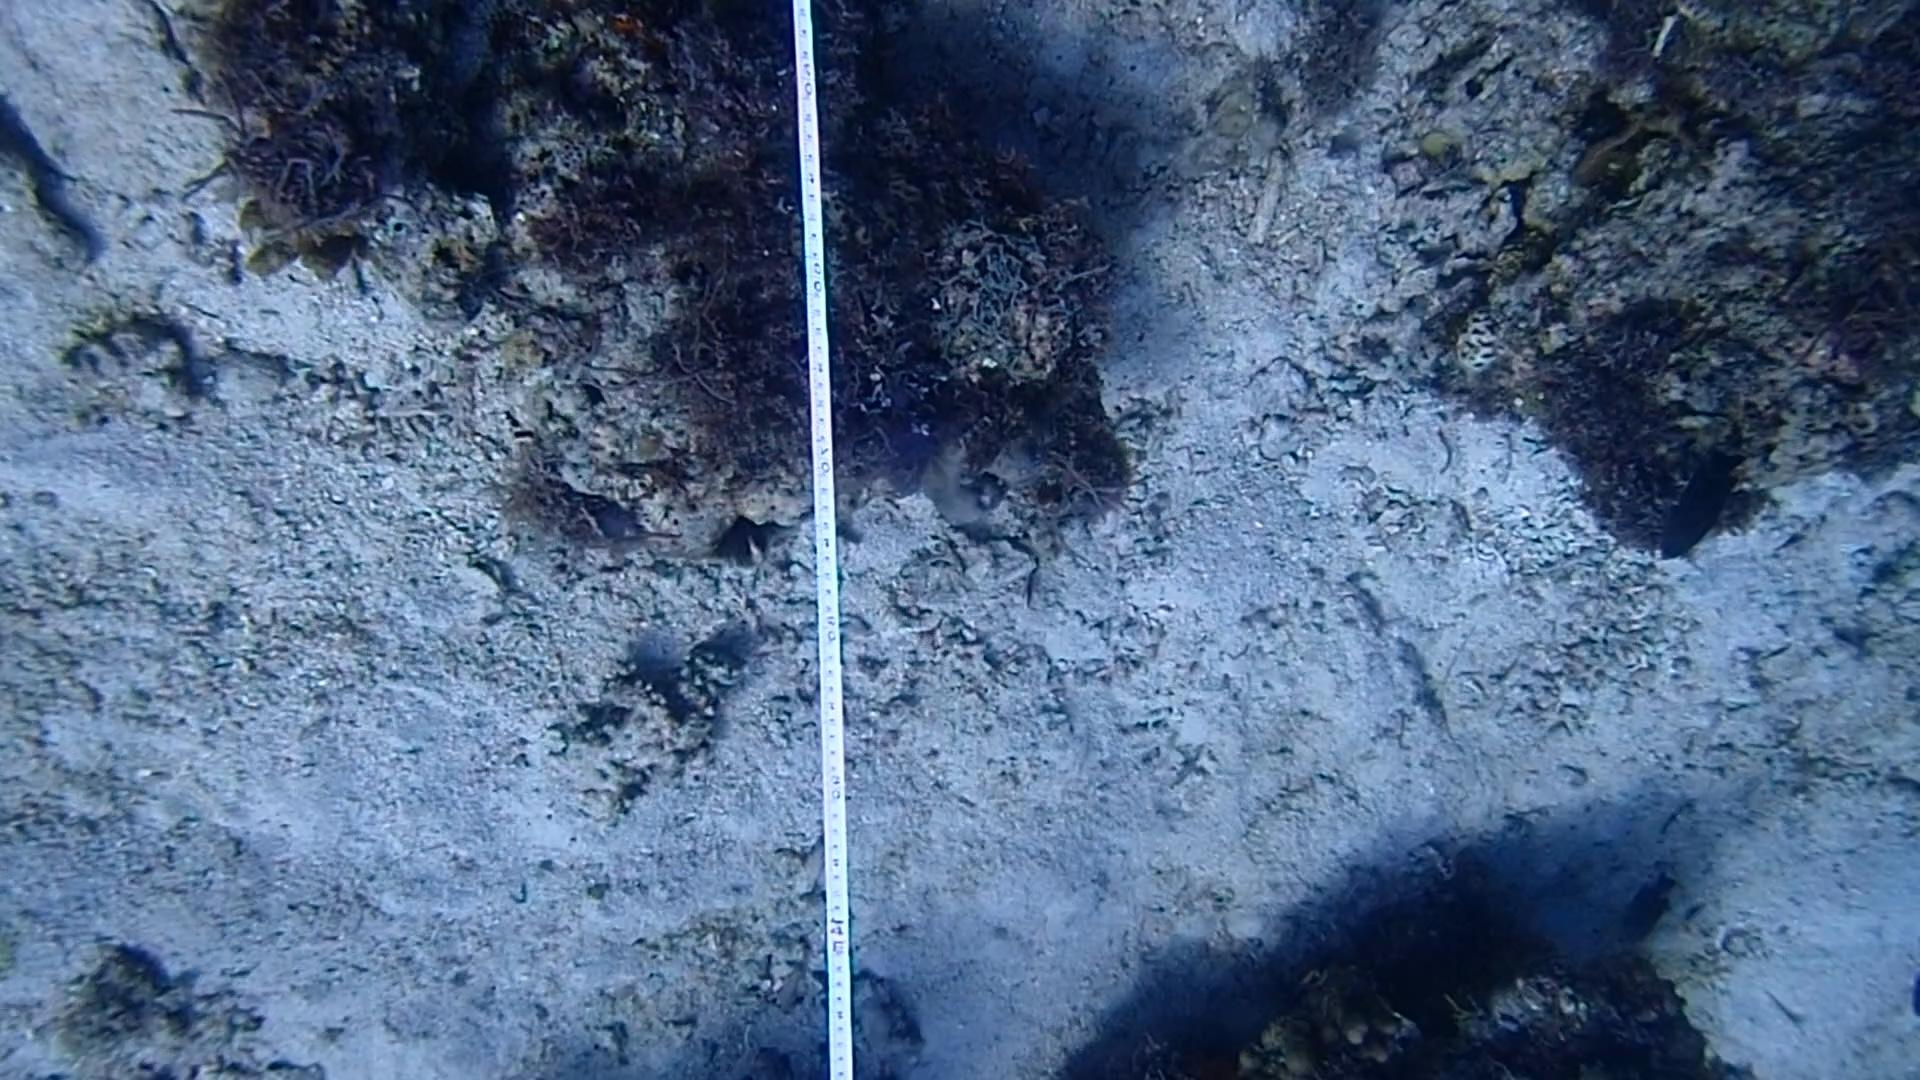Dark Fish: (1651, 446, 1751, 579), (1621, 869, 1679, 961)
